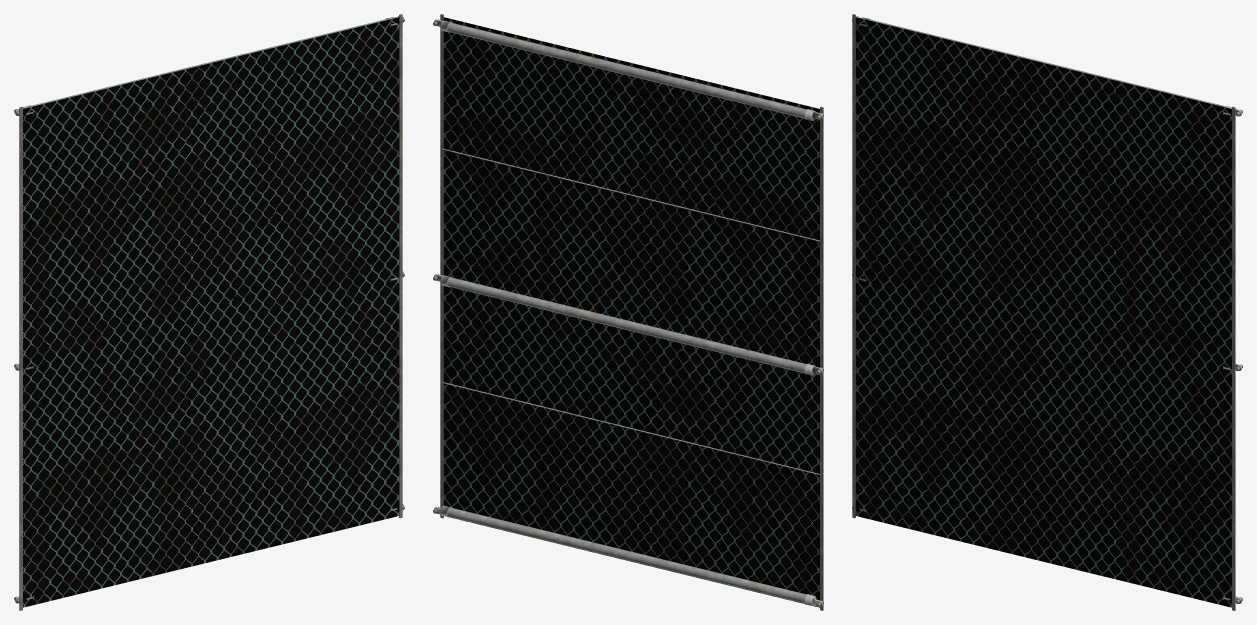
Rendered from modular_chainlink_fence_1k.gltf.
3 renders of one model, left to right at view 1: azimuth 30°, elevation 25°; view 2: azimuth 150°, elevation 25°; view 3: azimuth 330°, elevation 25°, orthographic.
Visible parts, largest first — view 1: modular_chainlink_fence_double_LOD0; view 2: modular_chainlink_fence_double_LOD0; view 3: modular_chainlink_fence_double_LOD0.
Part boxes in pixels (<box>): modular_chainlink_fence_double_LOD0: <box>14,14,404,610</box>; modular_chainlink_fence_double_LOD0: <box>433,14,823,610</box>; modular_chainlink_fence_double_LOD0: <box>852,14,1242,610</box>.
Size of what is drawn, in the model's own units: 1.91 by 2.37 by 0.0486.
Materials: 2 (2 with a texture image).
